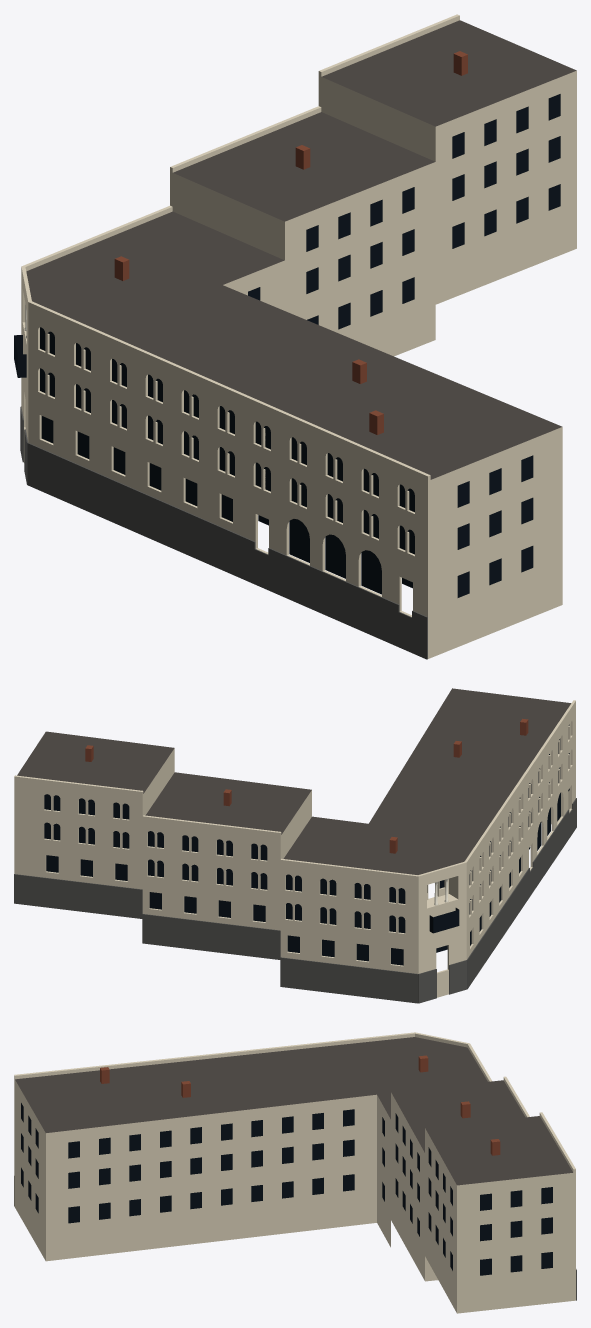
Rendered from bmorskaya15.lod.glb.
3 views of the same model, one above another, from view 1: azimuth 30°, elevation 25°; view 2: azimuth 150°, elevation 25°; view 3: azimuth 270°, elevation 25° (orthographic). The views are drawn at different scales.
Visible parts, largest first — view 1: bmorskaya15_wall, bmorskaya15_roof, bmorskaya15_glass, bmorskaya15_stone, bmorskaya15_wall3; view 2: bmorskaya15_wall, bmorskaya15_roof, bmorskaya15_stone, bmorskaya15_glass, bmorskaya15_wall3; view 3: bmorskaya15_wall, bmorskaya15_roof, bmorskaya15_glass, bmorskaya15_wall3.
Boxes of the visible parts, x1,y1,x2,y2 form: bmorskaya15_wall: (21, 14, 576, 658); bmorskaya15_roof: (26, 20, 576, 479); bmorskaya15_glass: (14, 94, 560, 597); bmorskaya15_stone: (20, 406, 427, 659); bmorskaya15_wall3: (114, 51, 467, 434); bmorskaya15_wall: (14, 700, 575, 997); bmorskaya15_roof: (17, 688, 571, 874); bmorskaya15_stone: (14, 798, 576, 1003); bmorskaya15_glass: (44, 724, 569, 965); bmorskaya15_wall3: (85, 718, 528, 853); bmorskaya15_wall: (14, 1032, 575, 1313); bmorskaya15_roof: (15, 1037, 572, 1185); bmorskaya15_glass: (21, 1103, 552, 1275); bmorskaya15_wall3: (100, 1055, 500, 1155).
Bounding box in the file's own units: 51.7 × 23.1 × 60.52.
